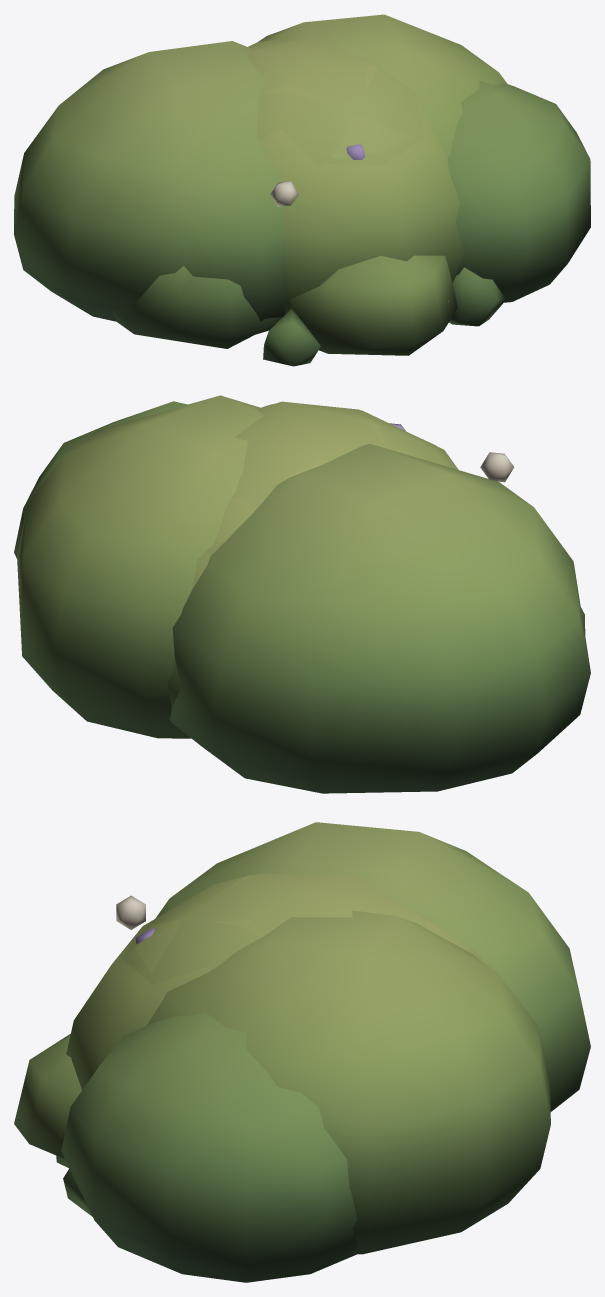
Rendered from bush_round.glb.
The picture shows the model from 3 angles, top to bottom: view 1: azimuth 30°, elevation 25°; view 2: azimuth 150°, elevation 25°; view 3: azimuth 270°, elevation 25°; orthographic projection. The views are drawn at different scales.
Visible parts, largest first — view 1: v3, v0, v1, v2; view 2: v3, v1, v2, v0; view 3: v3, v1, v2, v0.
Part boxes in pixels (bbox=[...]): v3: bbox=[14, 41, 590, 366]; v0: bbox=[246, 42, 464, 314]; v1: bbox=[112, 14, 508, 348]; v2: bbox=[247, 35, 424, 165]; v3: bbox=[14, 401, 590, 793]; v1: bbox=[17, 395, 585, 738]; v2: bbox=[206, 401, 442, 554]; v0: bbox=[167, 401, 458, 719]; v3: bbox=[14, 822, 590, 1282]; v1: bbox=[56, 895, 550, 1254]; v2: bbox=[121, 872, 482, 984]; v0: bbox=[66, 875, 496, 1089].
Size of what is drawn, in the model's own units: 2.49 by 1.1 by 2.08.
